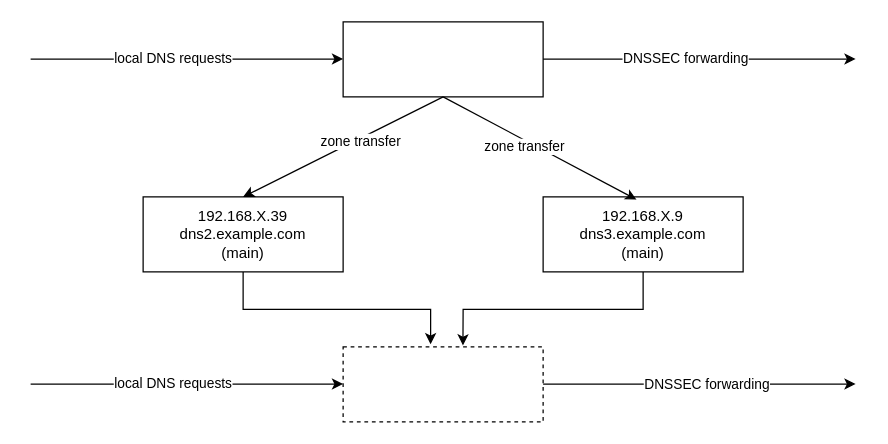
Some shapes in this 888 by 444 pixel diagram are drawn without their labels. Each missing label, with the centre of its shape:
192.168.X.10 vIP: the point at 442,384
192.168.X.21 dns1.example.com (main): the point at 442,59
